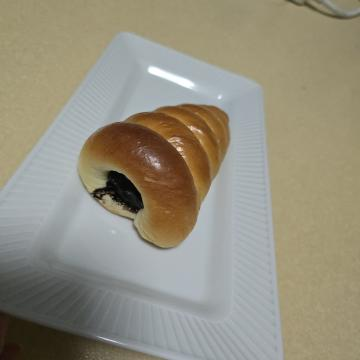cream horn: (82, 120, 273, 298)
